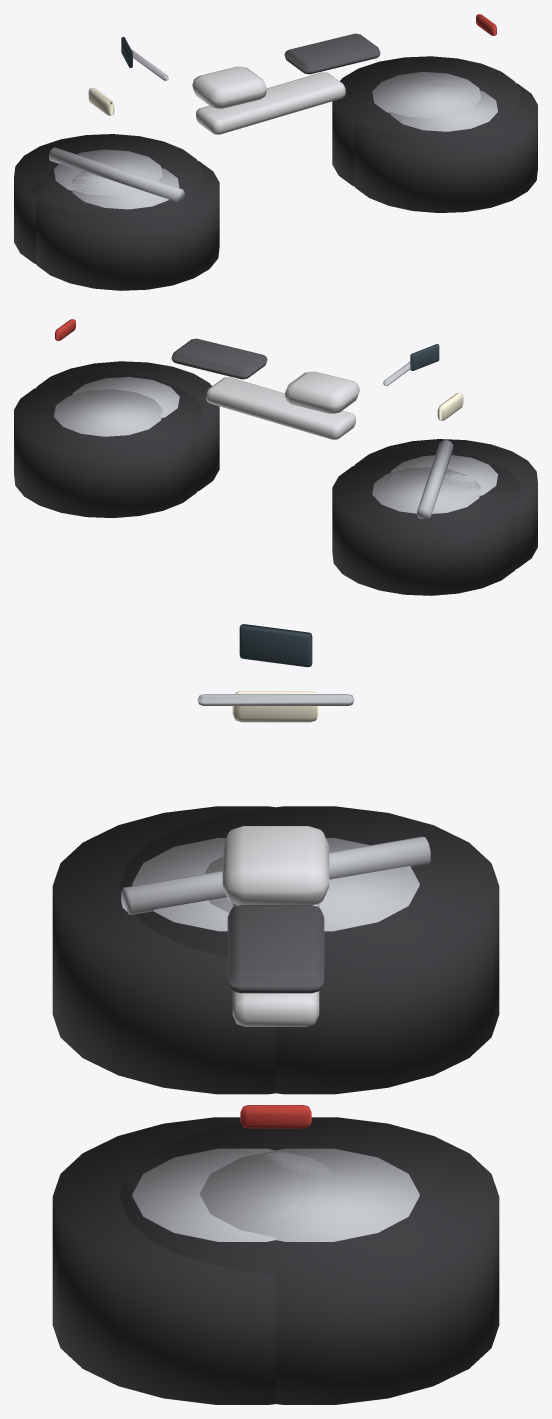
Rendered from motorbike.glb.
3 renders of one model, top to bottom at view 1: azimuth 30°, elevation 25°; view 2: azimuth 150°, elevation 25°; view 3: azimuth 270°, elevation 25°, orthographic. The views are drawn at different scales.
Visible parts, largest first — view 1: wheel_front_r, wheel_rear_r, wheel_rear_l, wheel_front_l, body_frame, trim_rim__rear_l, trim_rim__front_l, body_seat, body_tank, trim_fork, trim_rim__rear_r, trim_rim__front_r (+1 smaller); view 2: wheel_rear_l, wheel_front_l, wheel_front_r, wheel_rear_r, trim_rim__rear_l, body_frame, trim_rim__front_l, body_seat, body_tank, trim_rim__front_r, trim_rim__rear_r, trim_fork (+2 smaller); view 3: wheel_rear_l, wheel_front_l, wheel_rear_r, wheel_front_r, trim_rim__rear_l, body_seat, trim_rim__rear_r, body_tank, trim_fork, trim_rim__front_l, trim_rim__front_r, body_frame (+4 smaller).
Part boxes in pixels (x1,y1,x2,y2): wheel_front_r: [31, 154, 219, 290]; wheel_rear_r: [354, 75, 537, 212]; wheel_rear_l: [332, 56, 521, 186]; wheel_front_l: [14, 134, 202, 263]; body_frame: [196, 72, 345, 134]; trim_rim__rear_l: [372, 72, 480, 118]; trim_rim__front_l: [54, 149, 162, 195]; body_seat: [284, 33, 380, 74]; body_tank: [192, 66, 266, 108]; trim_fork: [49, 147, 184, 202]; trim_rim__rear_r: [390, 84, 497, 131]; trim_rim__front_r: [71, 168, 179, 209]; wheel_rear_l: [14, 373, 202, 517]; wheel_front_l: [332, 451, 520, 595]; wheel_front_r: [355, 439, 537, 568]; wheel_rear_r: [36, 361, 219, 491]; trim_rim__rear_l: [54, 389, 162, 436]; body_frame: [206, 377, 355, 439]; trim_rim__front_l: [372, 467, 480, 513]; body_seat: [171, 338, 267, 379]; body_tank: [285, 371, 359, 413]; trim_rim__front_r: [389, 455, 497, 500]; trim_rim__rear_r: [72, 377, 179, 418]; trim_fork: [417, 440, 453, 519]; wheel_rear_l: [120, 1117, 499, 1404]; wheel_front_l: [120, 806, 499, 1094]; wheel_rear_r: [52, 1117, 429, 1404]; wheel_front_r: [52, 806, 429, 1094]; trim_rim__rear_l: [199, 1148, 419, 1241]; body_seat: [227, 905, 324, 993]; trim_rim__rear_r: [132, 1148, 351, 1241]; body_tank: [222, 826, 329, 905]; trim_fork: [121, 836, 430, 915]; trim_rim__front_l: [205, 838, 419, 931]; trim_rim__front_r: [132, 838, 337, 931]; body_frame: [232, 903, 319, 1026].
Size of the model in its own units: 2.62 by 1.04 by 1.05.
